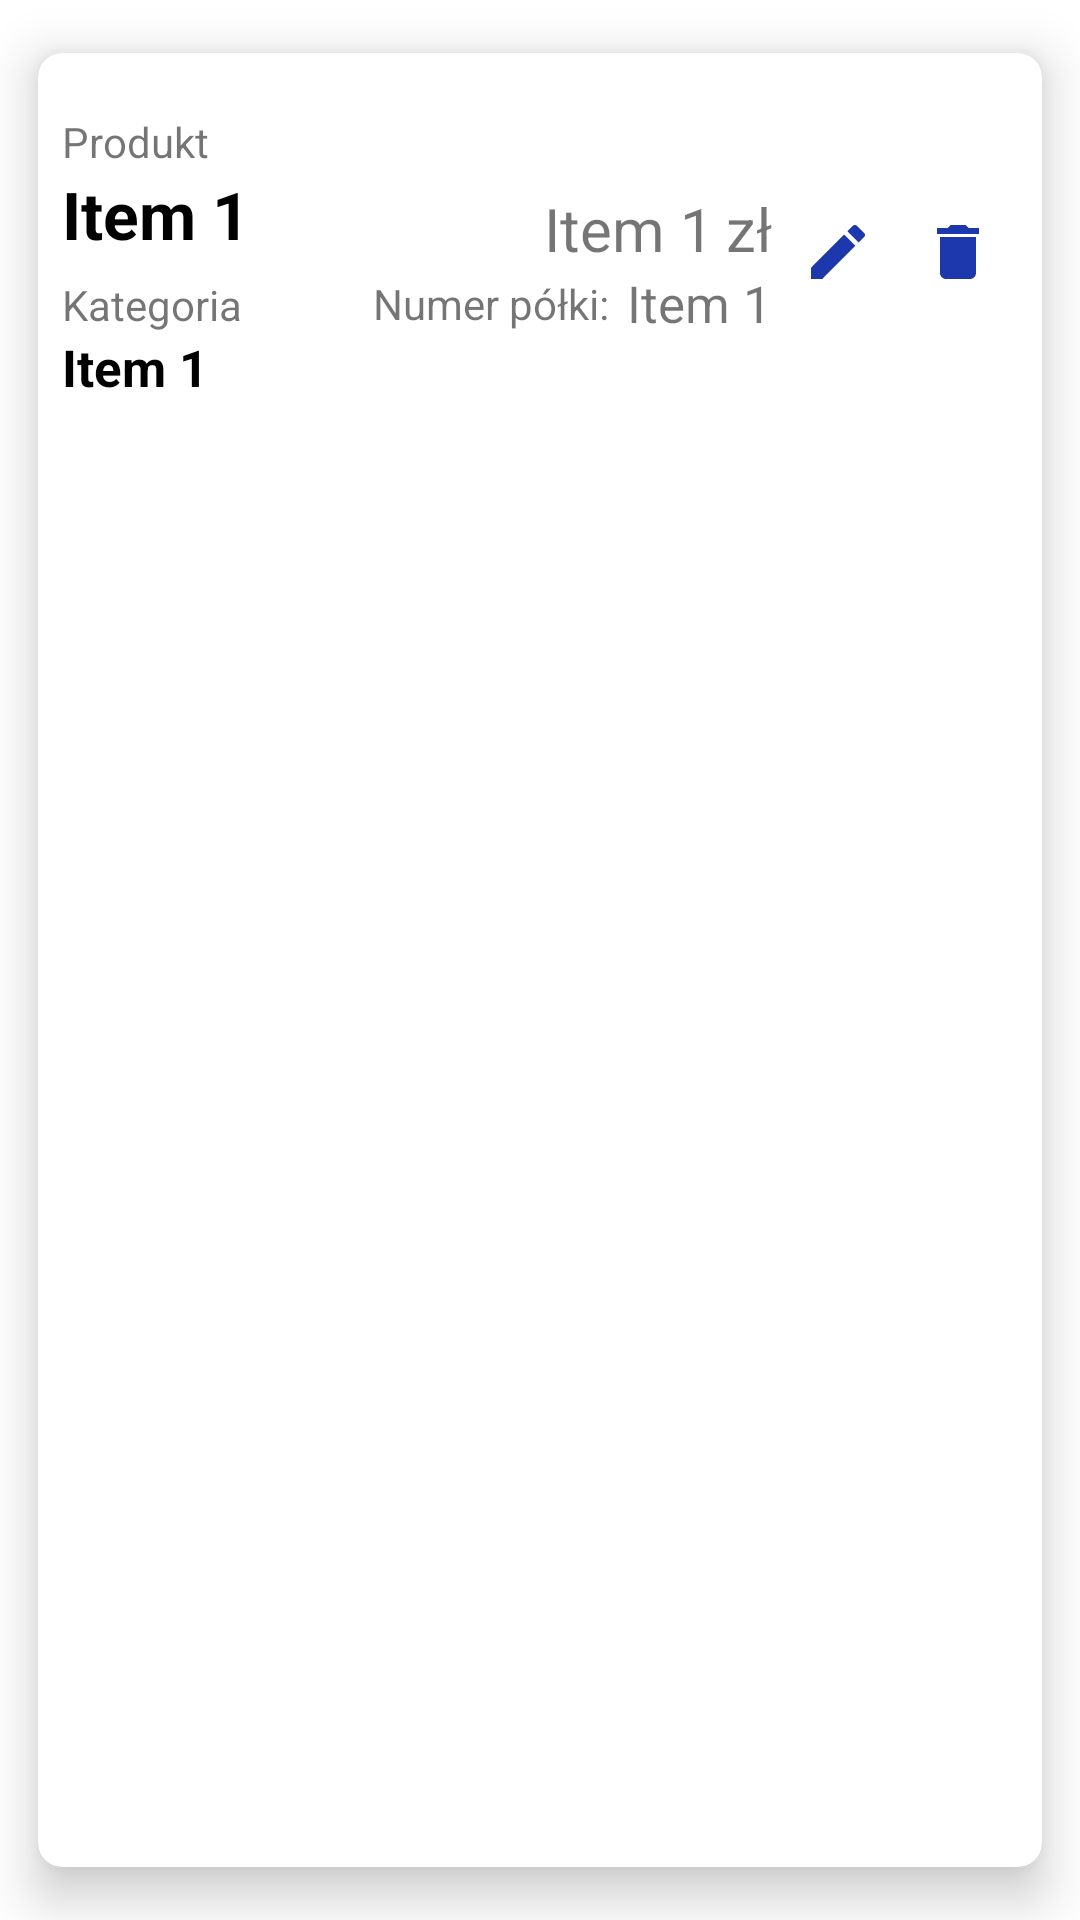

Icon click points for this 1080 × 1920 phone screenshot, format (x,y):
delete prod: (958,252)
edit product: (838,252)
